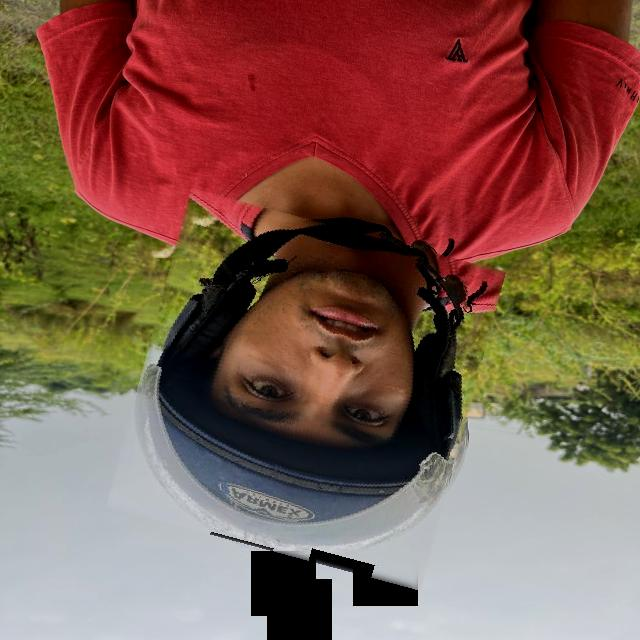helmet: (125, 206, 488, 572)
